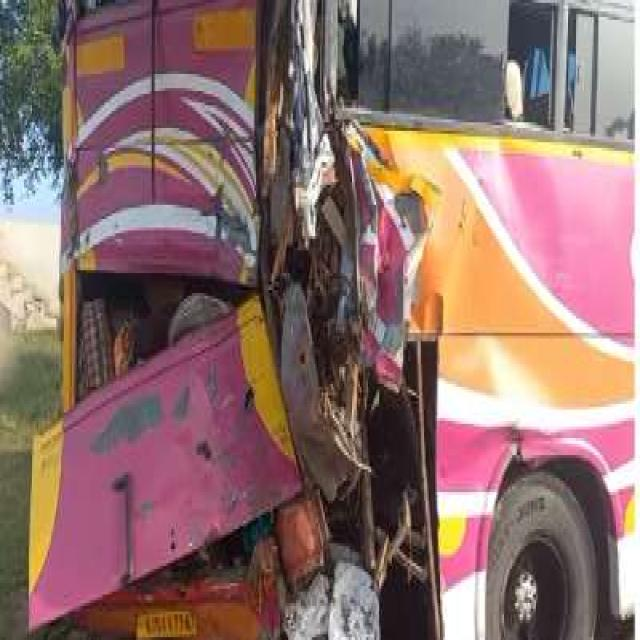accident: (32, 0, 640, 638)
